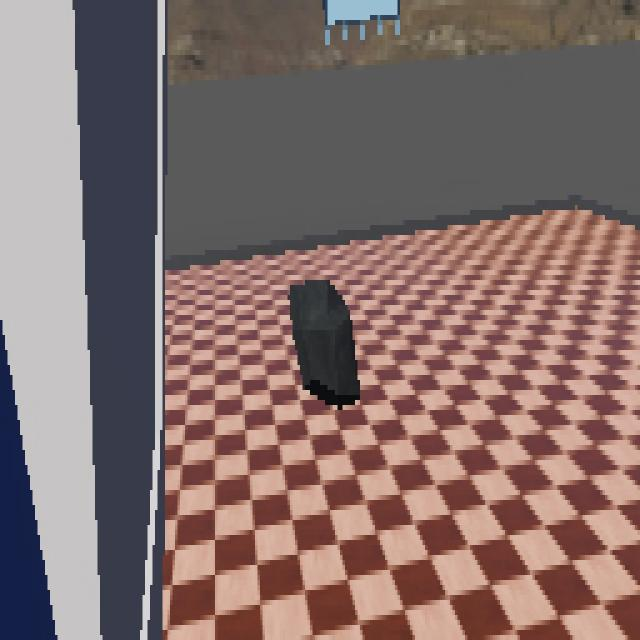rock: (289, 280, 361, 407)
